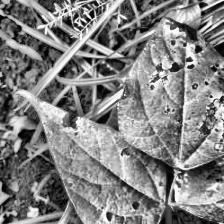ALS: (23, 86, 168, 224), (138, 24, 224, 148), (169, 153, 224, 224)
